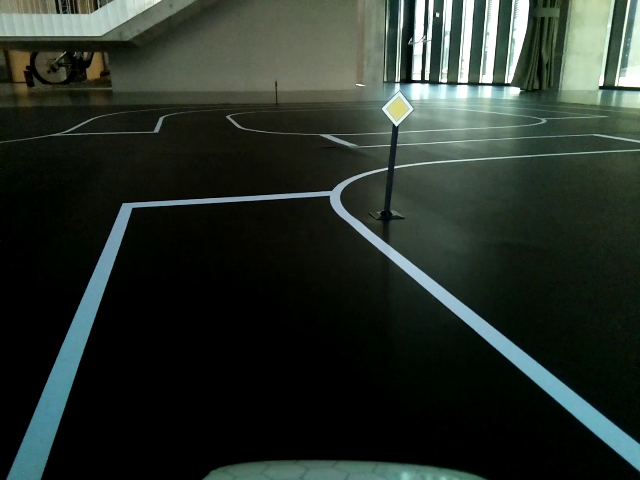priority: (381, 90, 412, 128)
